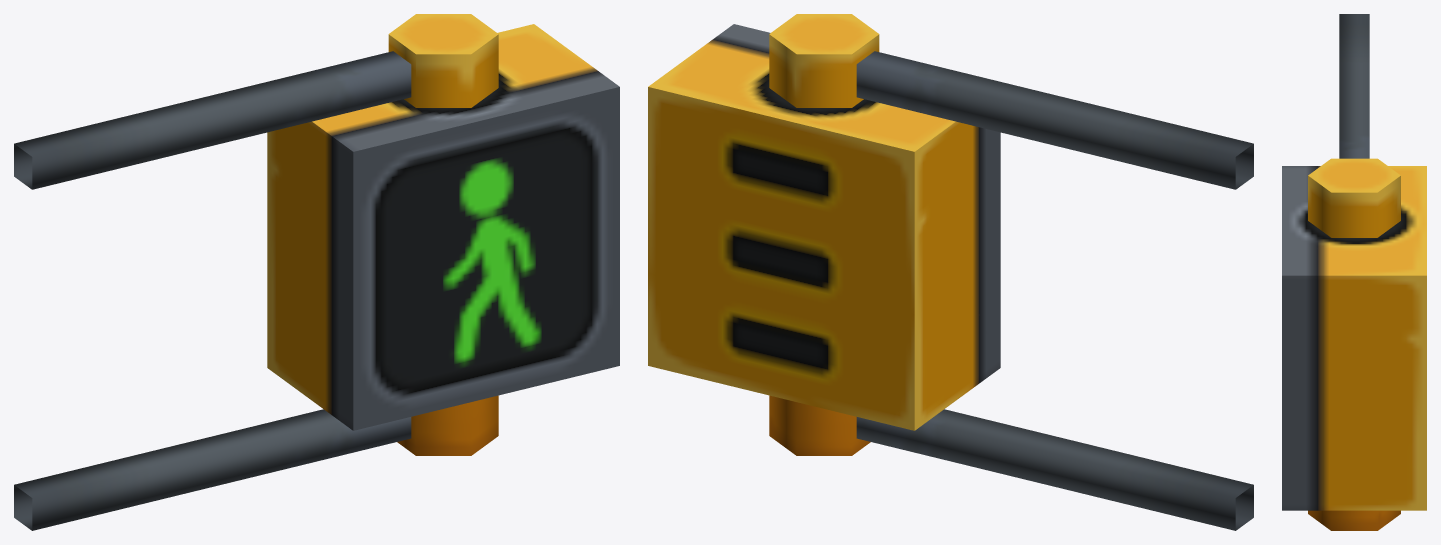
The model's file is Streetlight_el1B.fbx.
3 renders of one model, left to right at view 1: azimuth 30°, elevation 25°; view 2: azimuth 150°, elevation 25°; view 3: azimuth 270°, elevation 25°, orthographic. The views are drawn at different scales.
Visible parts, largest first — view 1: polySurface141; view 2: polySurface141; view 3: polySurface141.
Boxes of the visible parts, left/top/right/bottom form: polySurface141: left=14, top=14, right=619, bottom=530; polySurface141: left=648, top=14, right=1253, bottom=530; polySurface141: left=1282, top=14, right=1426, bottom=530.
Bounding box in the file's own units: 1.18 × 0.8212 × 0.3184.
